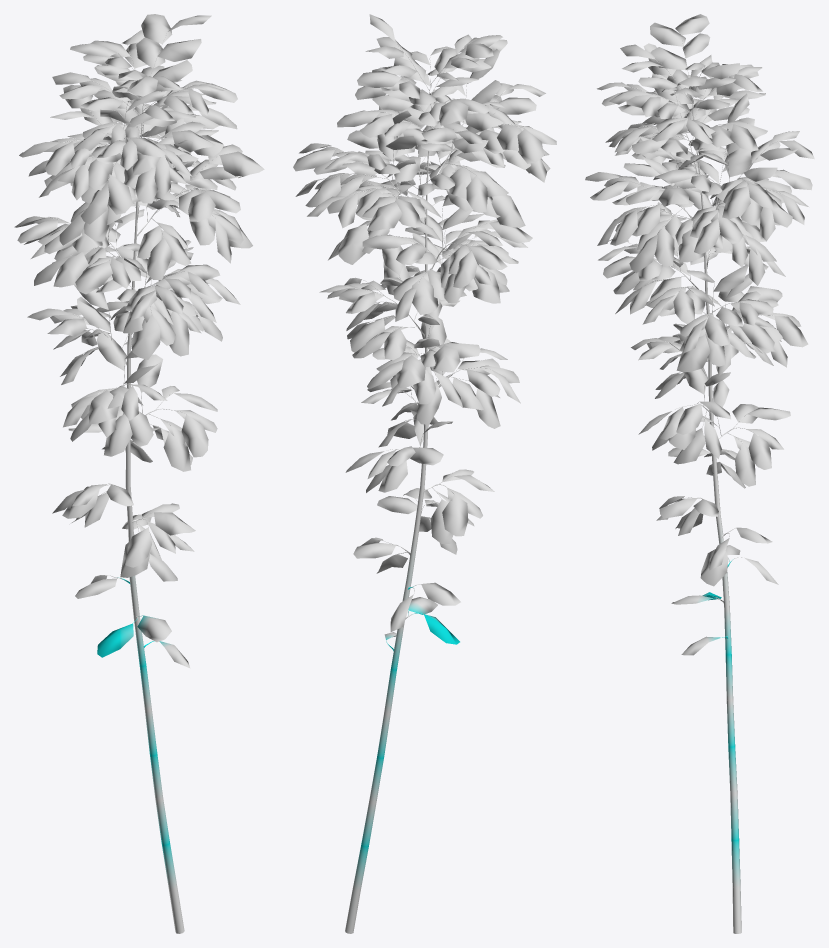
Rendered from Bamboo_3.fbx.
3 renders of one model, left to right at view 1: azimuth 30°, elevation 25°; view 2: azimuth 150°, elevation 25°; view 3: azimuth 270°, elevation 25°, orthographic. The views are drawn at different scales.
Parts seen in each view (by area): view 1: Bamboo_3; view 2: Bamboo_3; view 3: Bamboo_3.
Boxes of the visible parts, x1=… form: Bamboo_3: x1=14, y1=14, x2=264, y2=933; Bamboo_3: x1=293, y1=14, x2=556, y2=933; Bamboo_3: x1=585, y1=14, x2=814, y2=933.
Size of the model in its own units: 315 by 1211 by 291.
